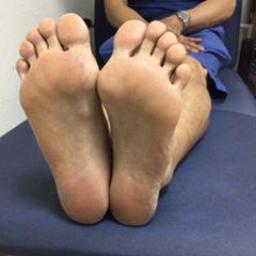Plantar View -Both Feet-: (8, 6, 198, 237)
